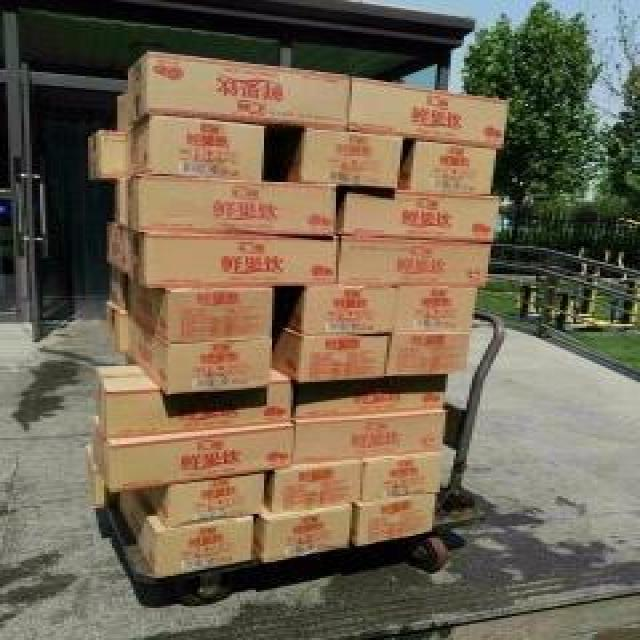box: (121, 55, 356, 138), (88, 366, 298, 444), (127, 220, 346, 292), (86, 420, 300, 487), (125, 316, 276, 406), (333, 176, 504, 255), (338, 74, 509, 150), (120, 176, 331, 233), (285, 398, 459, 464), (116, 114, 276, 184), (125, 276, 273, 347), (330, 228, 504, 288), (290, 121, 400, 202), (272, 326, 400, 394), (139, 468, 274, 530), (130, 510, 255, 576), (402, 133, 500, 200), (253, 452, 362, 512), (270, 282, 400, 332), (382, 275, 488, 333), (352, 488, 445, 548), (390, 326, 476, 388), (256, 510, 351, 564), (352, 444, 444, 498)
